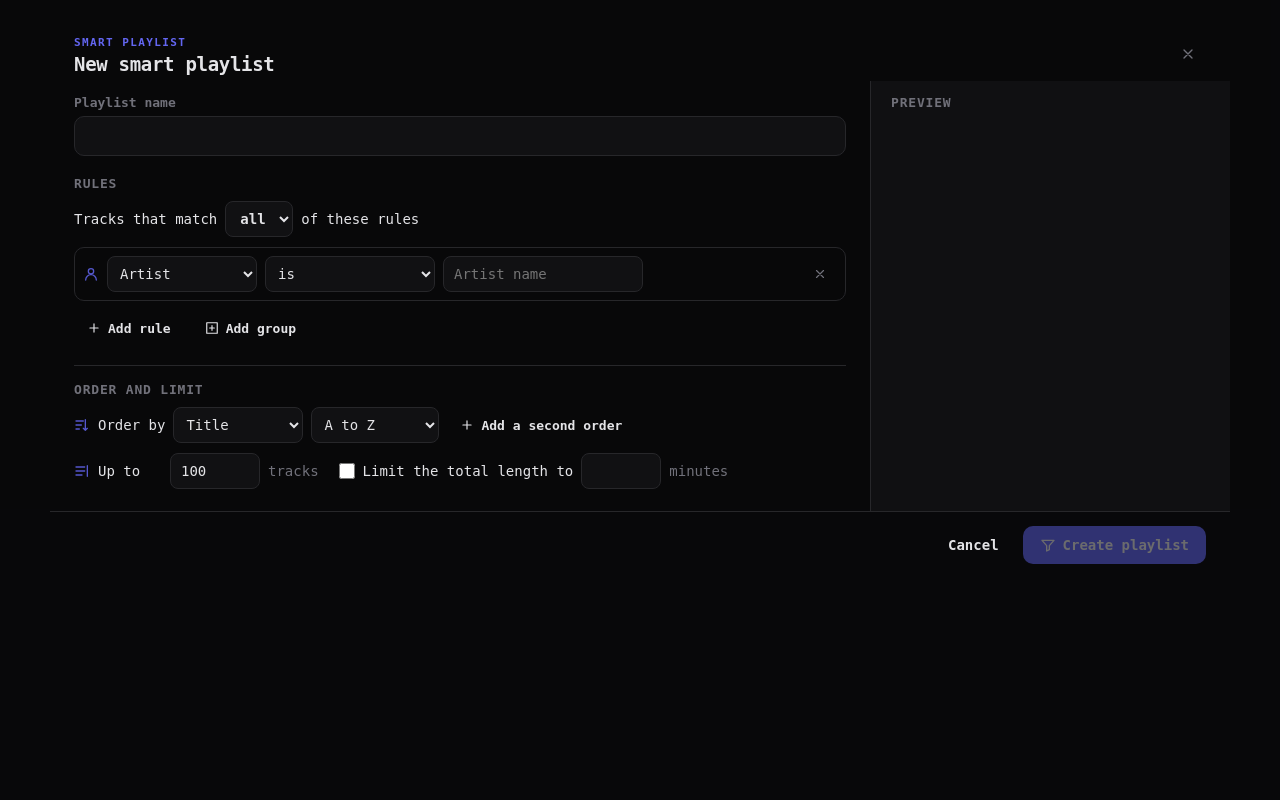
Test: SmartPlaylistEditor › adds groups and shows the empty preview
This screenshot has width=1280, height=800.
Click the button "Add group".
click(250, 328)  # box [192,311,309,345]
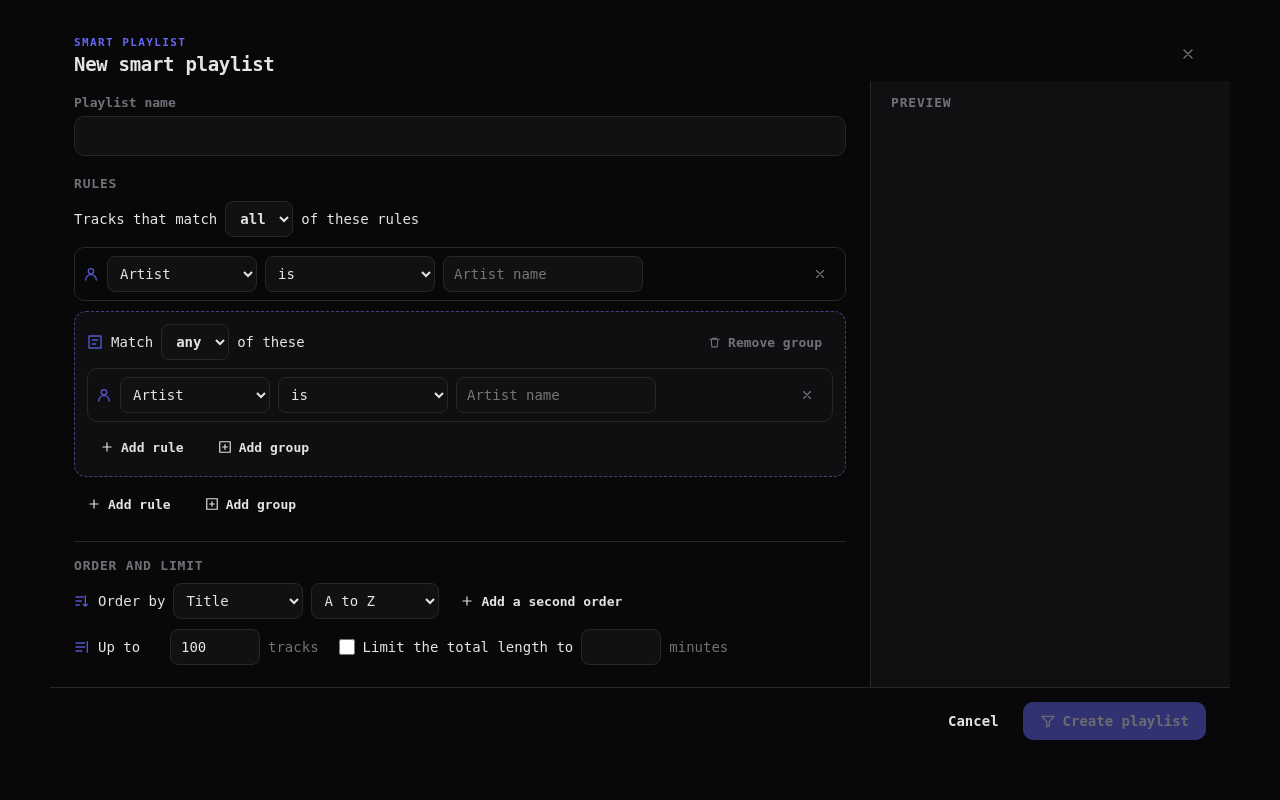
Expected: the dropdown named "Match all or any rule in this group" shows "any", [161,324,229,360]
Select "Favourite" in the 2nd dropdown named "Field" at (195, 395), box [120,377,270,413]
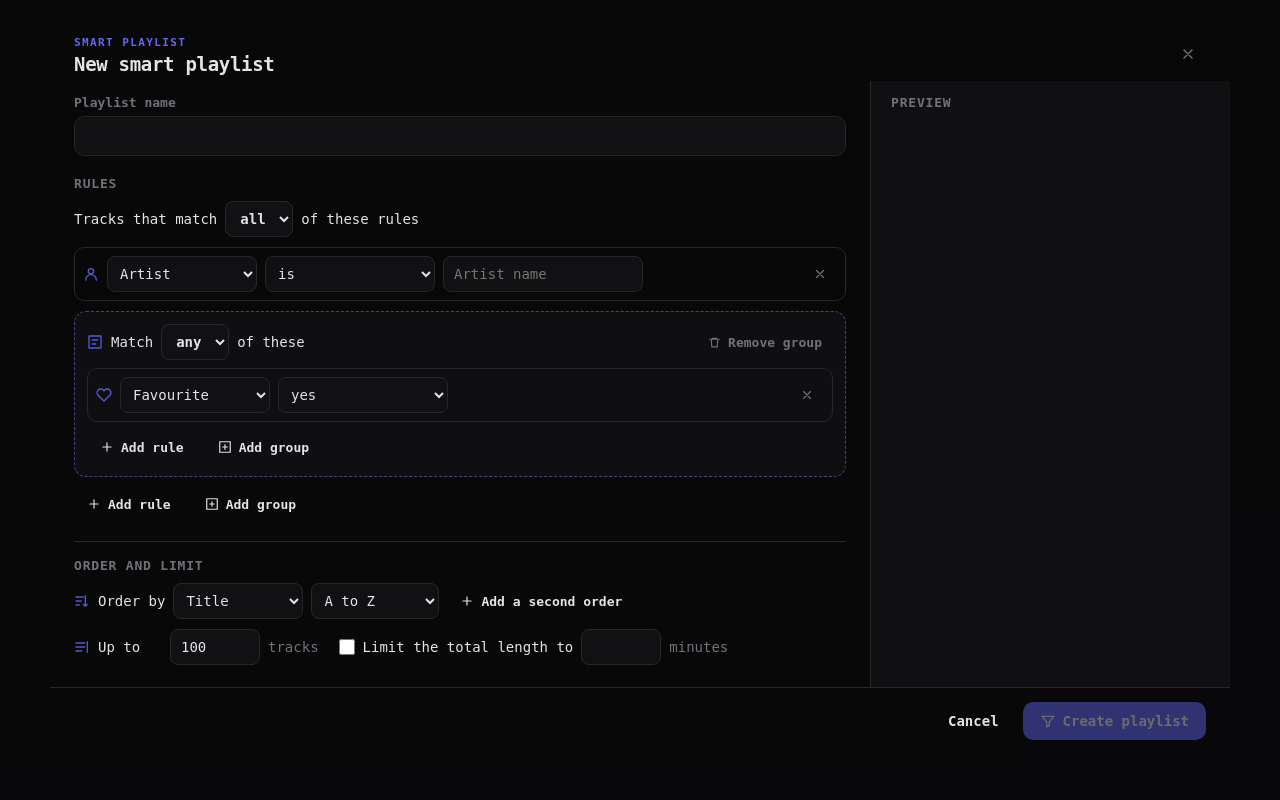
Type "Air" into the field labelled "Artist name".
click(543, 274); type("Air")  # box [443,256,643,292]
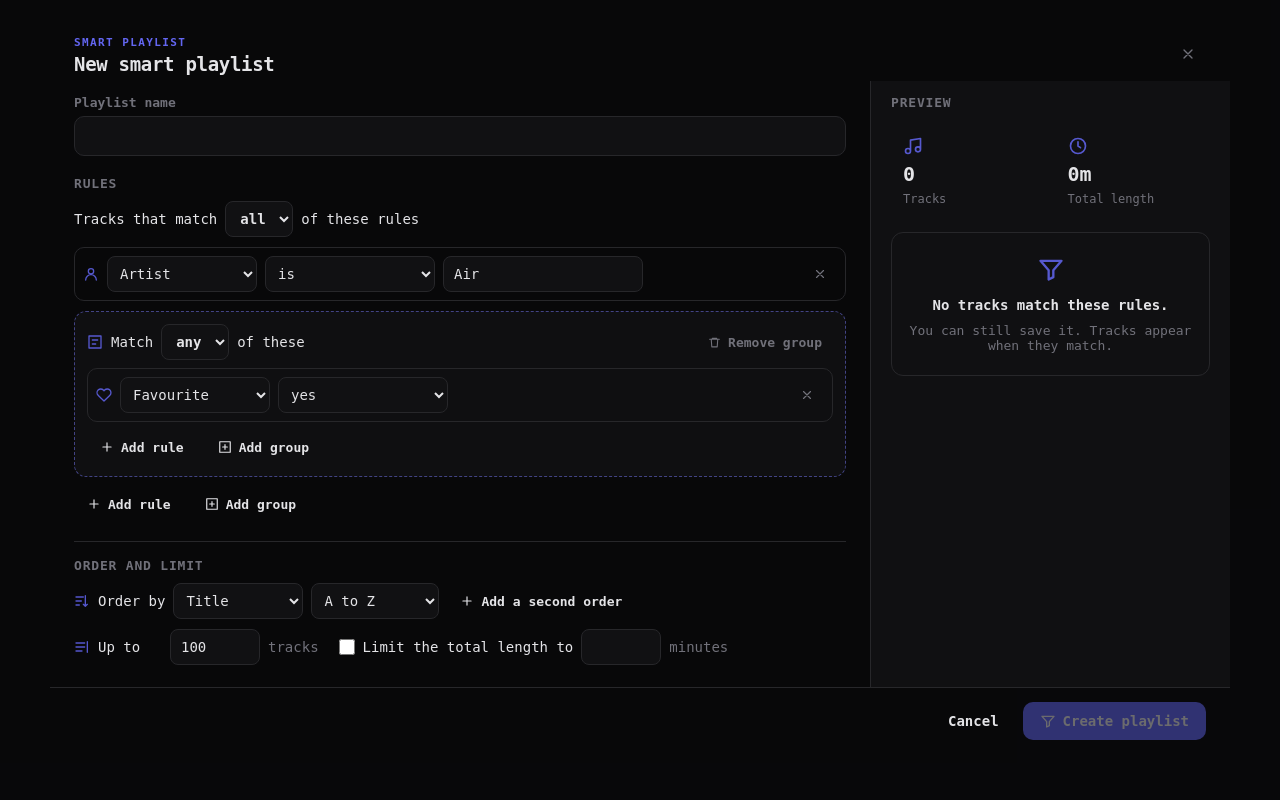
Expected: the text "No tracks match these rules." is shown, [932,297,1168,313]
Expected: the text "You can still save it. Tracks appear when they match." is shown, [908,323,1193,353]
Click the button "Remove group".
click(765, 342)  # box [697,326,833,358]
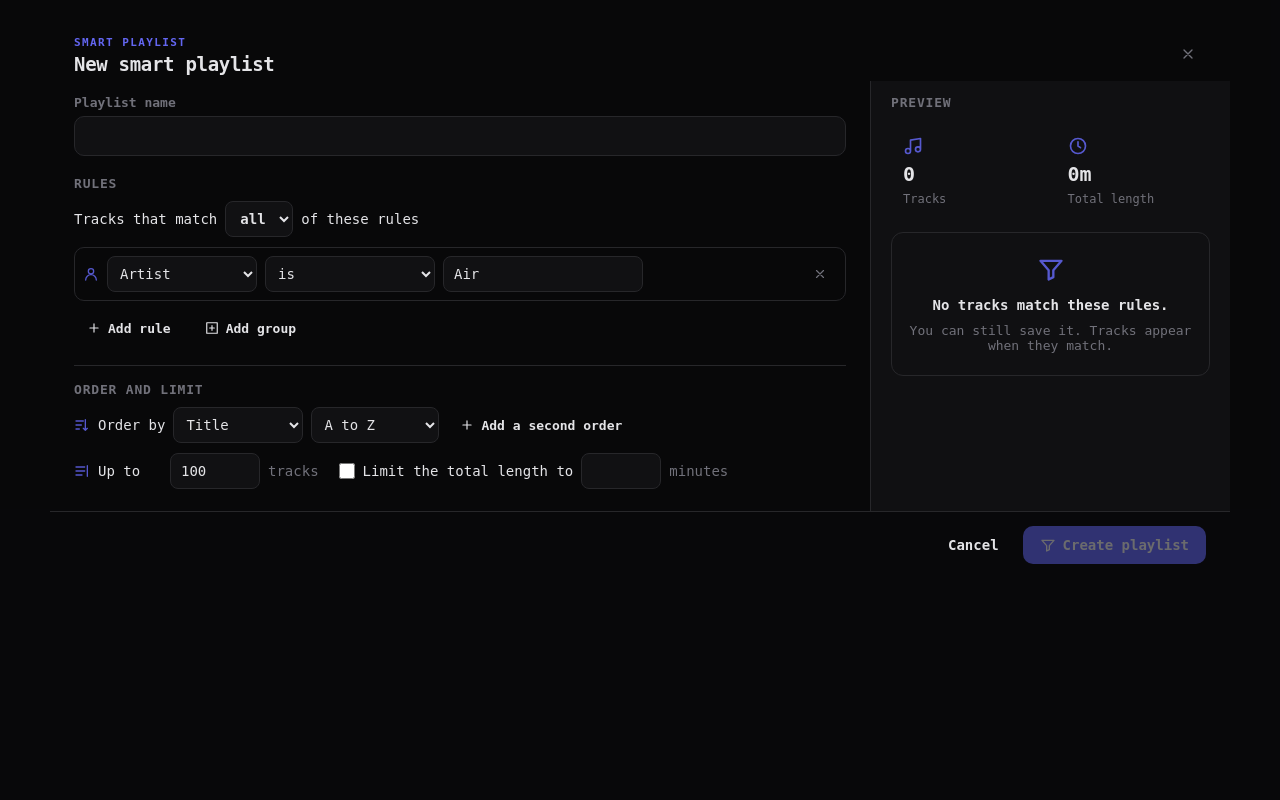
Expected: the dropdown labelled "Rule group" is gone
